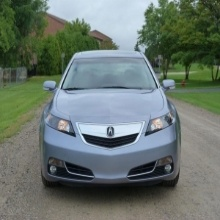no damage: (41, 48, 180, 192)
